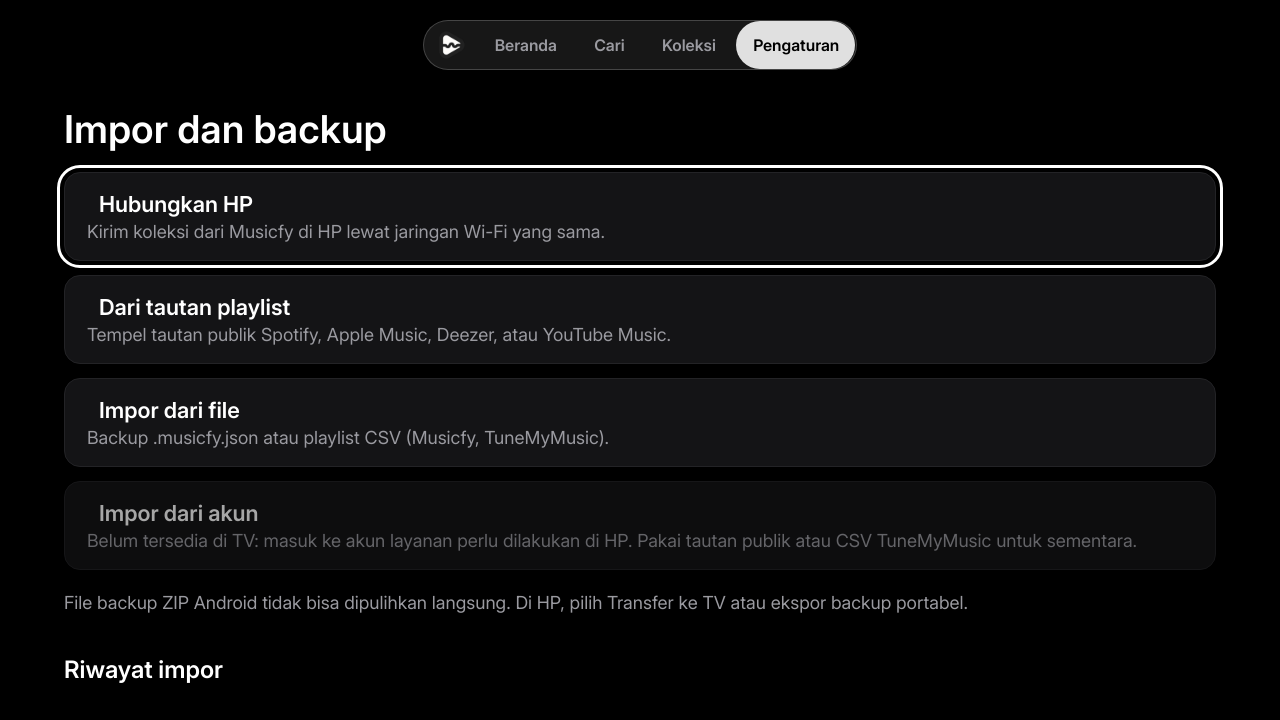
it: connect a phone › a TV with no network shows the reason instead of a code
Click the button that starts with "Hubungkan HP".
click(176, 204)  # box [64,172,1216,261]
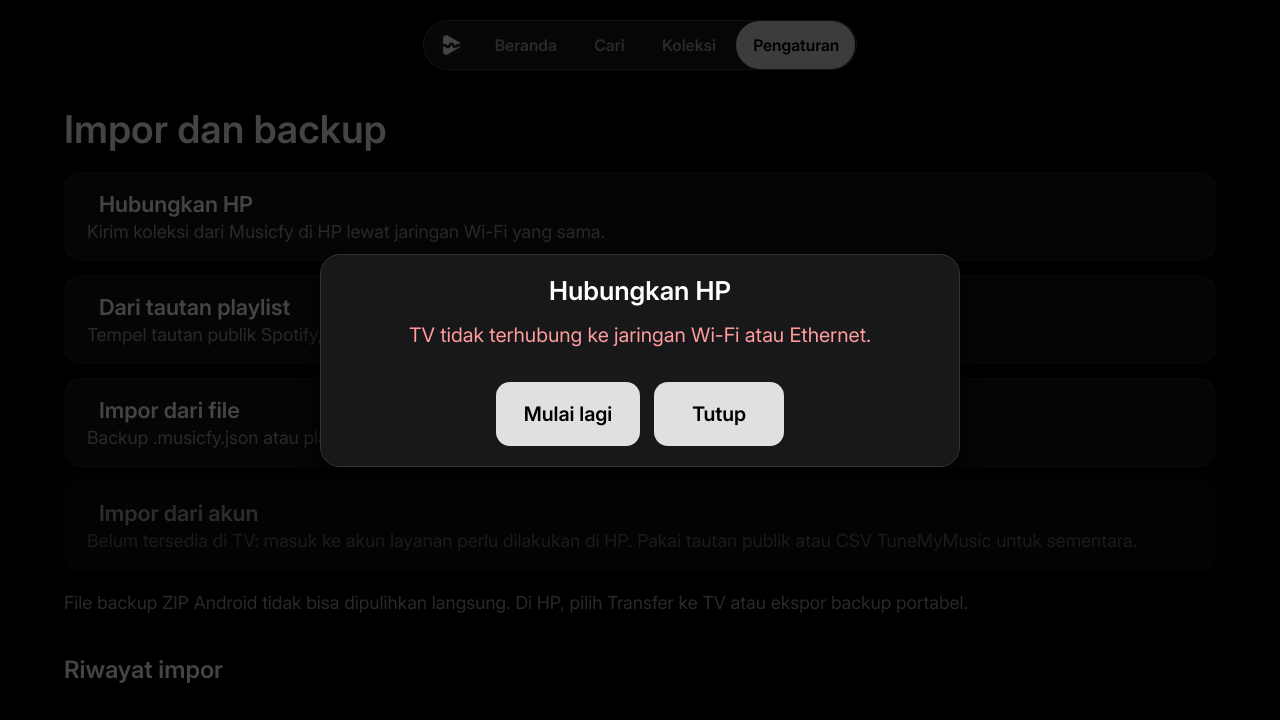
Result: the dialog with class "is-top" shows "tidak terhubung ke jaringan" at [409,322,871,346]
